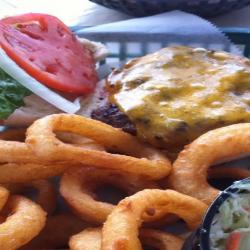burger: (5, 16, 250, 155)
